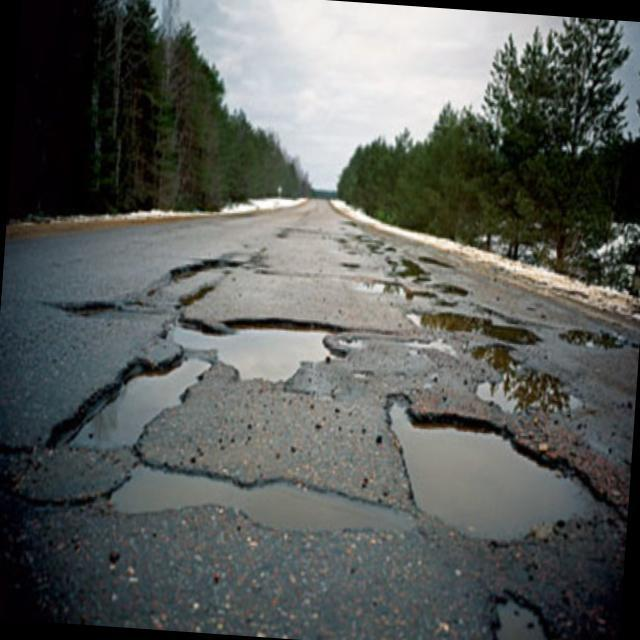Pothole: (371, 380, 608, 560), (172, 454, 357, 545), (164, 304, 342, 396), (45, 376, 163, 466), (402, 306, 536, 355), (488, 585, 547, 640), (567, 319, 627, 360), (62, 287, 132, 322), (178, 246, 232, 286)
